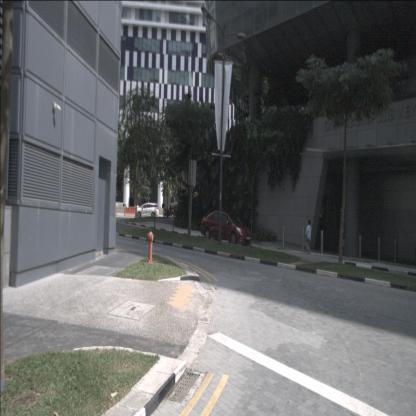barrier: (124, 207, 136, 216), (115, 206, 125, 216)
